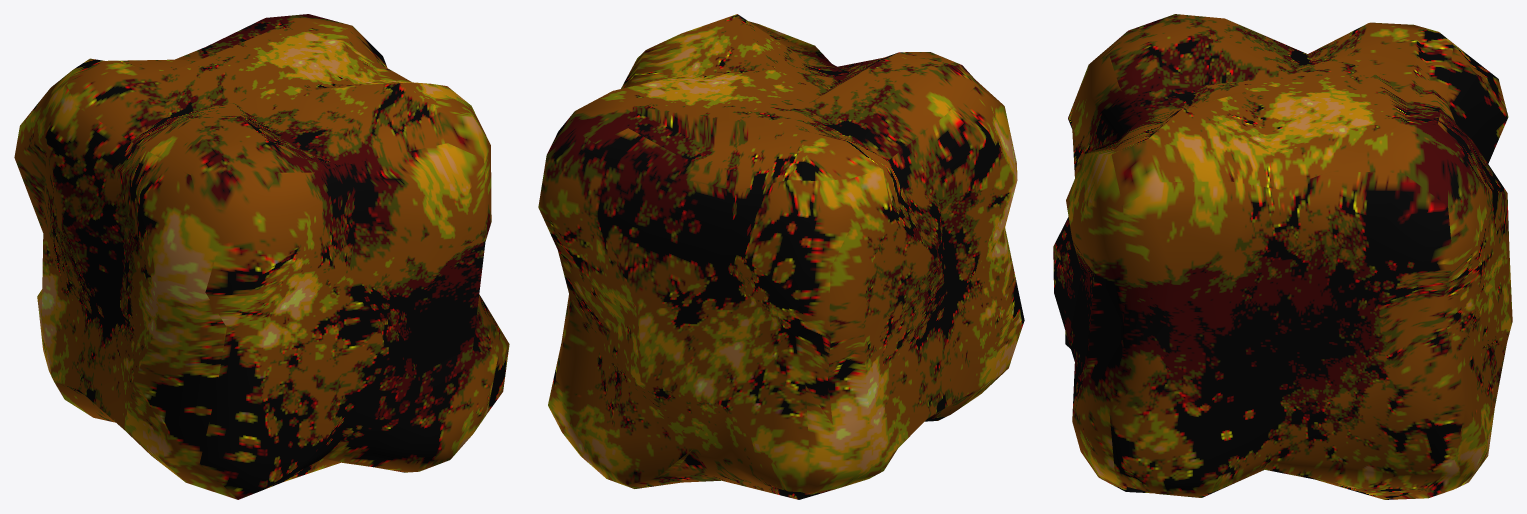
File: blocks_gaass.fbx
3 views of the same model, side by side, from view 1: azimuth 30°, elevation 25°; view 2: azimuth 150°, elevation 25°; view 3: azimuth 270°, elevation 25° (orthographic). The views are drawn at different scales.
Parts seen in each view (by area): view 1: gass5; view 2: gass5; view 3: gass5.
Part boxes in pixels (x1,y1,x2,y2): gass5: (14,14,509,499); gass5: (538,14,1024,499); gass5: (1053,14,1512,499).
Size of the model in its own units: 81.22 by 80.47 by 84.88.
